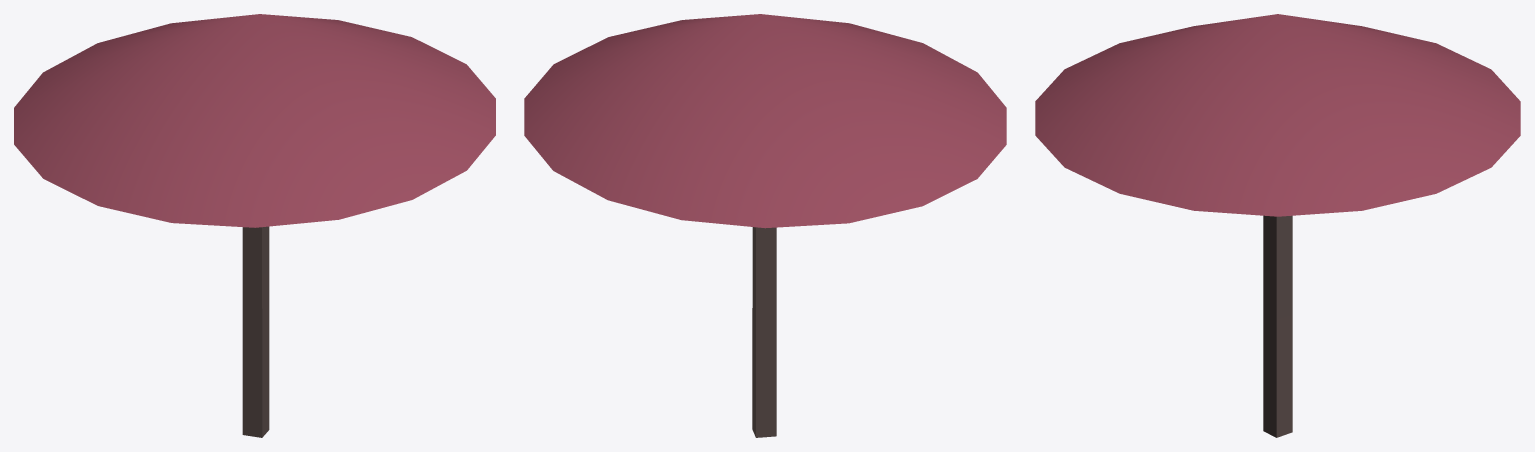
The model's file is Prop_umbrella_on.FBX.
The picture shows the model from 3 angles, left to right: view 1: azimuth 30°, elevation 25°; view 2: azimuth 150°, elevation 25°; view 3: azimuth 270°, elevation 25°; orthographic projection.
Visible parts, largest first — view 1: Prop_umbrella_on; view 2: Prop_umbrella_on; view 3: Prop_umbrella_on.
Boxes of the visible parts, x1,y1,x2,y2 form: Prop_umbrella_on: (14, 14, 495, 437); Prop_umbrella_on: (524, 14, 1006, 437); Prop_umbrella_on: (1035, 14, 1520, 437).
Bounding box in the file's own units: 85.43 × 80.48 × 84.38.
